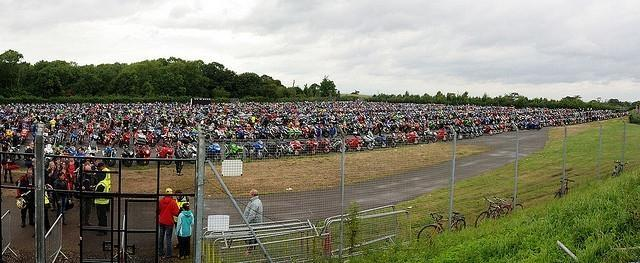bicycle: (474, 196, 502, 230), (418, 216, 452, 242), (429, 210, 466, 231), (493, 195, 523, 217), (554, 178, 576, 199), (613, 158, 630, 178)
motorcycle: (345, 130, 365, 152), (243, 140, 264, 160), (136, 145, 152, 166), (224, 144, 244, 160), (282, 140, 302, 156), (322, 138, 342, 154), (368, 132, 388, 148), (206, 142, 222, 162), (301, 138, 319, 155), (155, 143, 175, 158), (406, 129, 420, 145), (362, 135, 376, 150), (330, 142, 348, 153)
